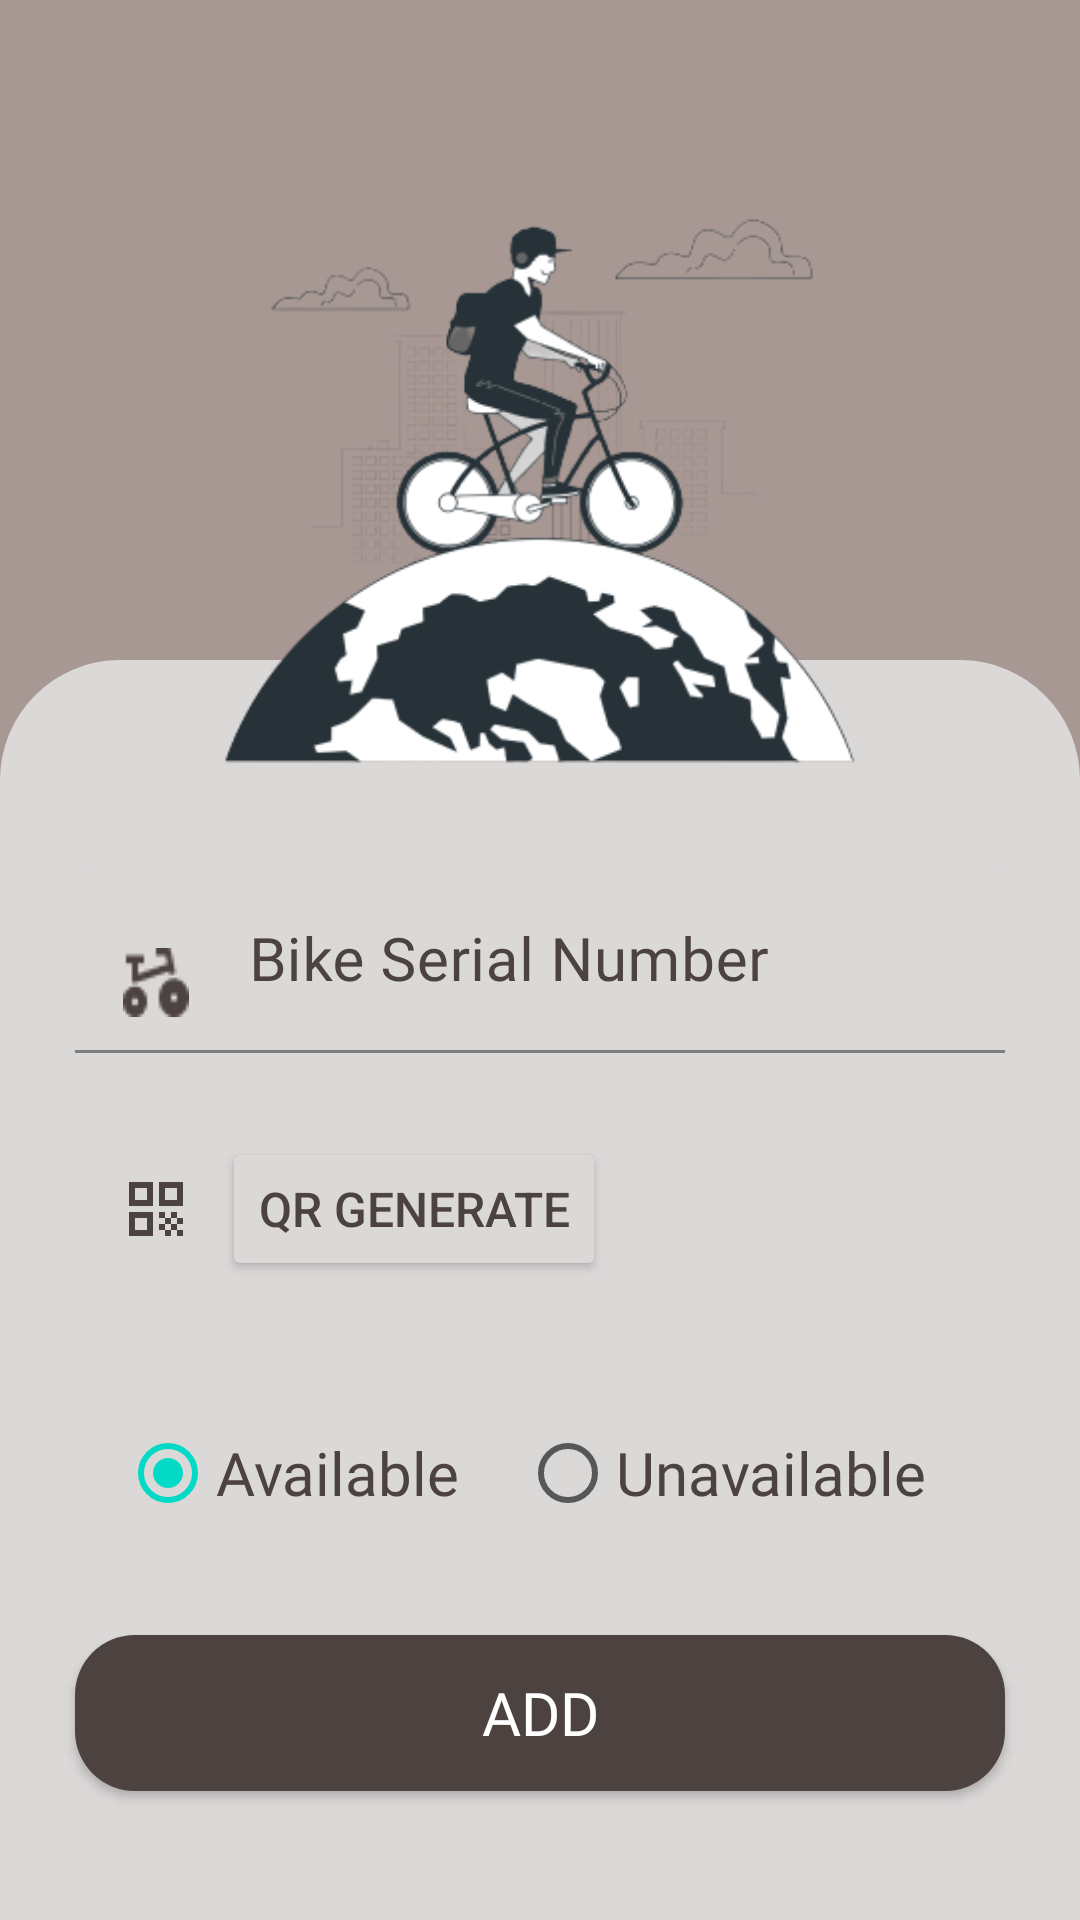

Screen size 1080px x 1920px. Icon name, then its box in pixels as (x1, y1, x2, y2):
qr code: (129, 1182, 183, 1236)
